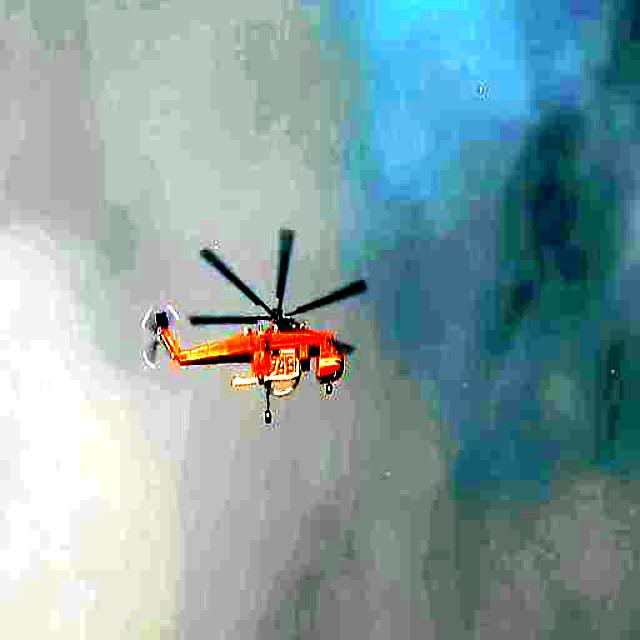drone: (138, 220, 369, 430)
